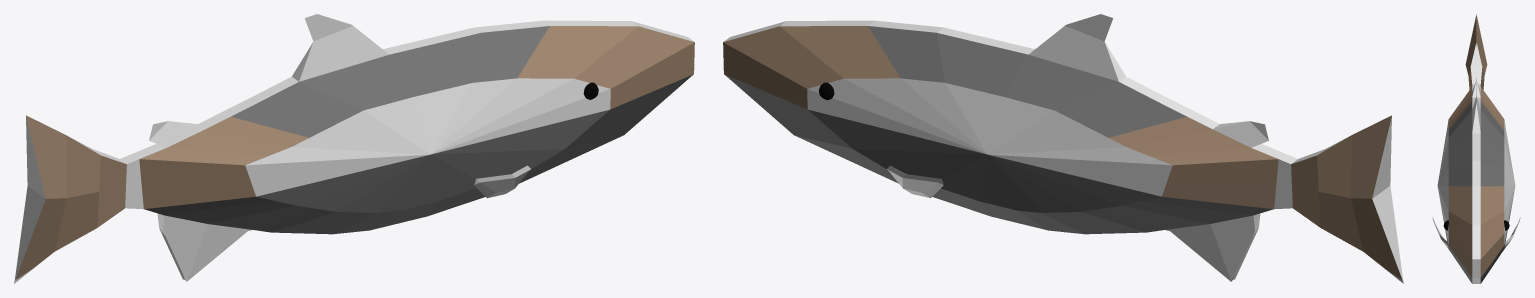
The model's file is fish2 1.fbx.
3 renders of one model, left to right at view 1: azimuth 30°, elevation 25°; view 2: azimuth 150°, elevation 25°; view 3: azimuth 270°, elevation 25°, orthographic. The views are drawn at different scales.
Visible parts, largest first — view 1: Plane; view 2: Plane; view 3: Plane.
Part boxes in pixels (box(x1,y1,x2,y2)): Plane: box(14, 14, 694, 283); Plane: box(723, 14, 1403, 283); Plane: box(1432, 14, 1520, 283).
Bounding box in the file's own units: 535 × 177 × 102.
